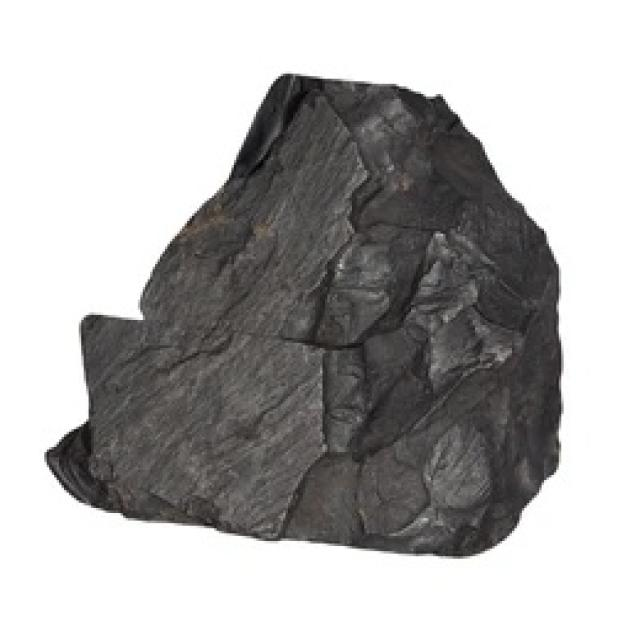Sedimentary: (52, 69, 606, 561)
